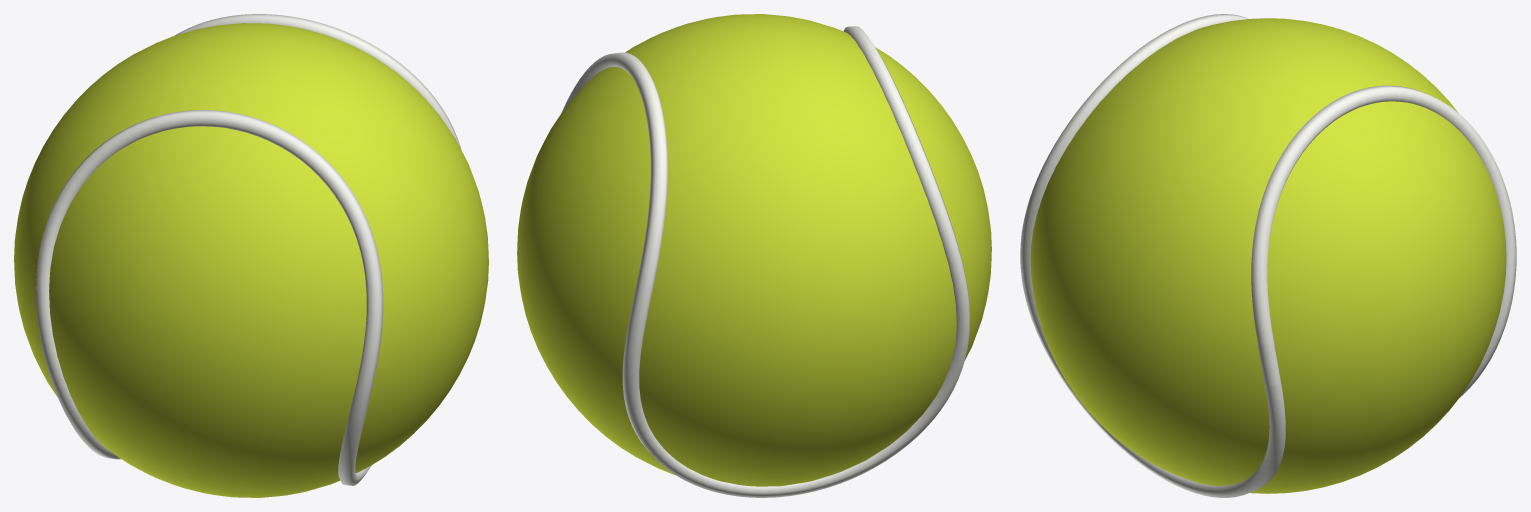
File: tennis_ball.obj
3 views of the same model, side by side, from view 1: azimuth 30°, elevation 25°; view 2: azimuth 150°, elevation 25°; view 3: azimuth 270°, elevation 25° (orthographic).
Parts seen in each view (by area): view 1: tennis_ball_0_0, tennis_ball_1_2665; view 2: tennis_ball_0_0, tennis_ball_1_2665; view 3: tennis_ball_0_0, tennis_ball_1_2665.
Part boxes in pixels (box(x1,y1,x2,y2)): tennis_ball_0_0: box(14, 23, 488, 497); tennis_ball_1_2665: box(36, 14, 461, 485); tennis_ball_0_0: box(517, 14, 991, 486); tennis_ball_1_2665: box(561, 26, 969, 497); tennis_ball_0_0: box(1030, 18, 1506, 493); tennis_ball_1_2665: box(1020, 14, 1516, 497).
Bounding box in the file's own units: 0.0701 × 0.067 × 0.0699.
